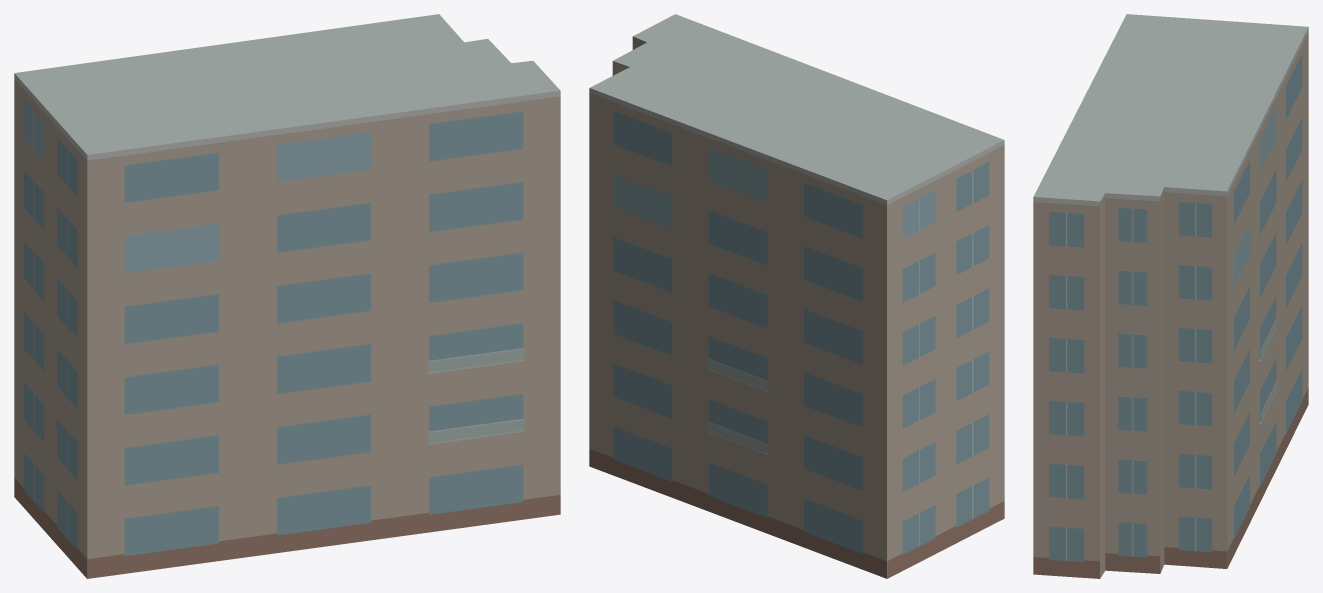
File: survey-upis-33014906.glb
The picture shows the model from 3 angles, left to right: view 1: azimuth 30°, elevation 25°; view 2: azimuth 150°, elevation 25°; view 3: azimuth 270°, elevation 25°; orthographic projection. The views are drawn at different scales.
Parts seen in each view (by area): view 1: survey-upis-33014906.tmp; view 2: survey-upis-33014906.tmp; view 3: survey-upis-33014906.tmp.
Boxes of the visible parts, left/top/right/bottom form: survey-upis-33014906.tmp: left=14, top=14, right=560, bottom=578; survey-upis-33014906.tmp: left=589, top=14, right=1004, bottom=578; survey-upis-33014906.tmp: left=1033, top=14, right=1308, bottom=578.
Bounding box in the file's own units: 19.49 × 18.3 × 12.11.
